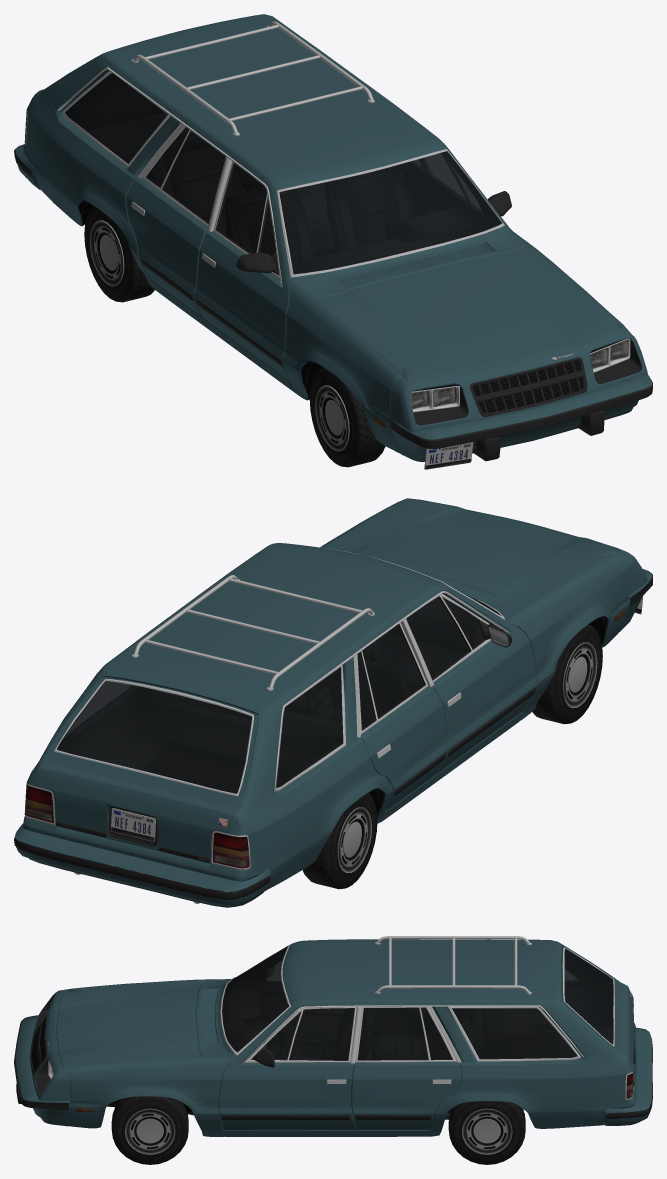
File: fairheaven-sw-84-low-poly-model-aa0bec.glb
3 renders of one model, top to bottom at view 1: azimuth 30°, elevation 25°; view 2: azimuth 150°, elevation 25°; view 3: azimuth 270°, elevation 25°, orthographic. The views are drawn at different scales.
Parts seen in each view (by area): view 1: body, wheel-front-right, wheel-back-right; view 2: body, wheel-back-right, wheel-front-right; view 3: body, wheel-front-left, wheel-back-left.
Part boxes in pixels (x1=…): body: x1=14, y1=14, x2=652, y2=469; wheel-front-right: x1=309, y1=367, x2=385, y2=467; wheel-back-right: x1=24, y1=109, x2=154, y2=302; body: x1=14, y1=498, x2=652, y2=907; wheel-back-right: x1=211, y1=793, x2=377, y2=889; wheel-front-right: x1=532, y1=624, x2=602, y2=724; body: x1=14, y1=936, x2=652, y2=1136; wheel-front-left: x1=111, y1=1096, x2=188, y2=1164; wheel-back-left: x1=448, y1=1065, x2=633, y2=1164.
Bounding box in the file's own units: 1.86 × 1.4 × 5.03.
Materials: 8 (7 with a texture image).
